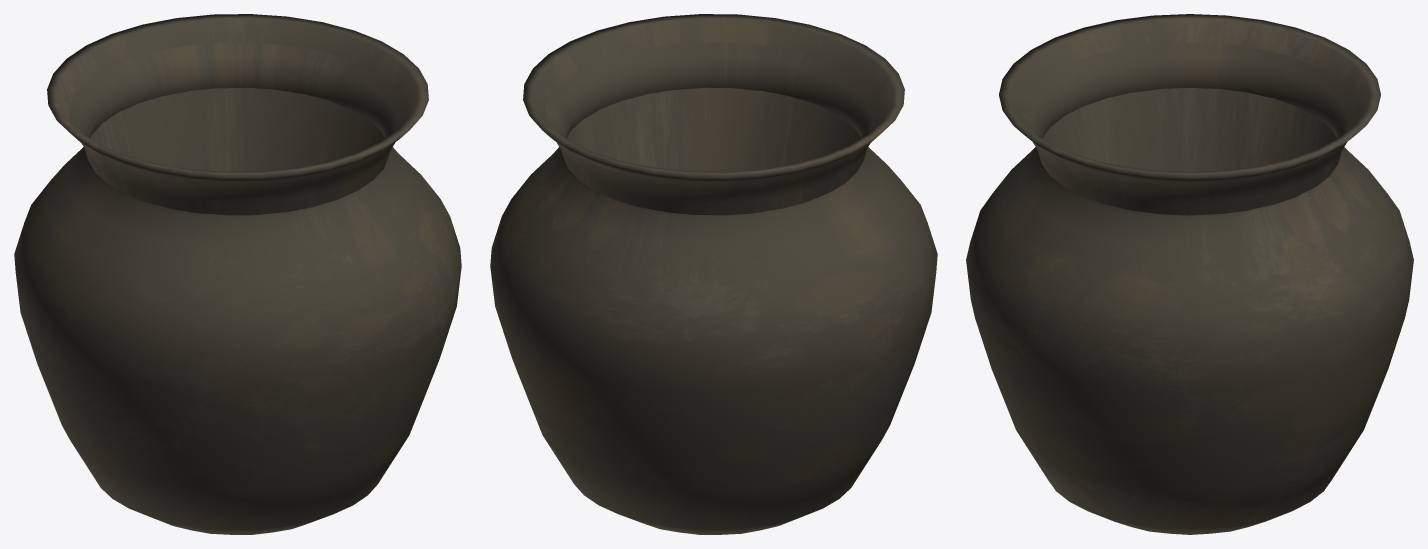
The model's file is kalash.fbx.
3 views of the same model, side by side, from view 1: azimuth 30°, elevation 25°; view 2: azimuth 150°, elevation 25°; view 3: azimuth 270°, elevation 25° (orthographic).
Visible parts, largest first — view 1: Cylinder.008; view 2: Cylinder.008; view 3: Cylinder.008.
Boxes of the visible parts, x1,y1,x2,y2 form: Cylinder.008: [14, 14, 461, 534]; Cylinder.008: [490, 14, 937, 534]; Cylinder.008: [966, 14, 1413, 534].
Size of the model in its own units: 12.54 by 12.3 by 12.54.
Materials: 1 (1 with a texture image).
